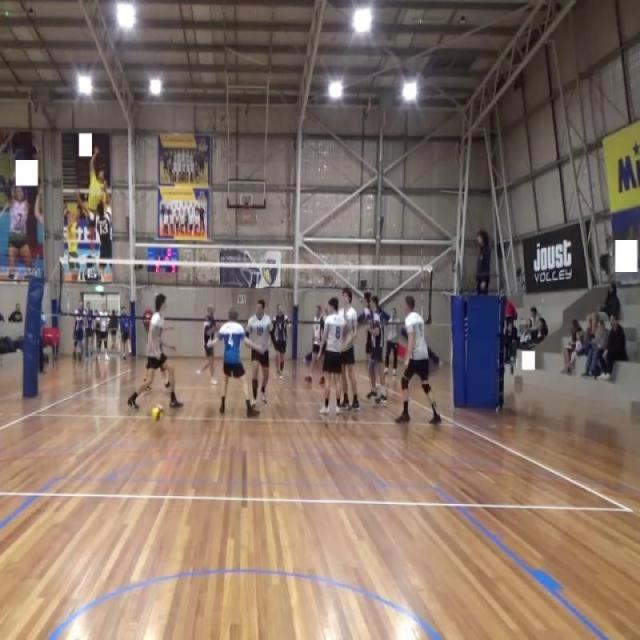volleyball: (150, 402, 166, 424)
